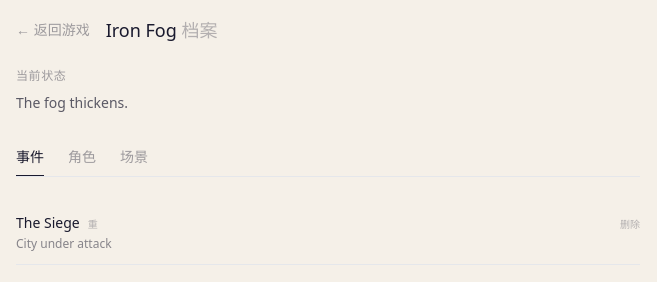
it: lists scenes
Expected: the heading "Iron Fog 档案" is shown, top-left (106, 16), bottom-right (218, 44)
Click the button "场景" at [134, 161], box top-left (120, 147), bottom-right (148, 176)
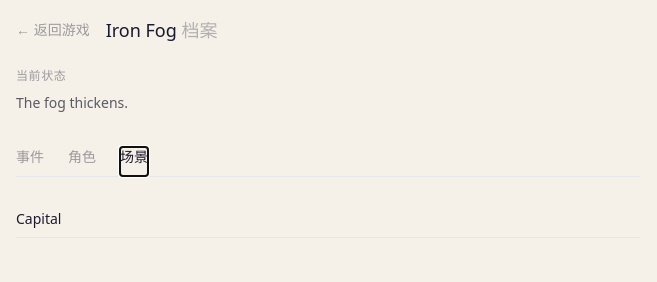
Now the text "Capital" is shown, box top-left (16, 209), bottom-right (62, 229)
